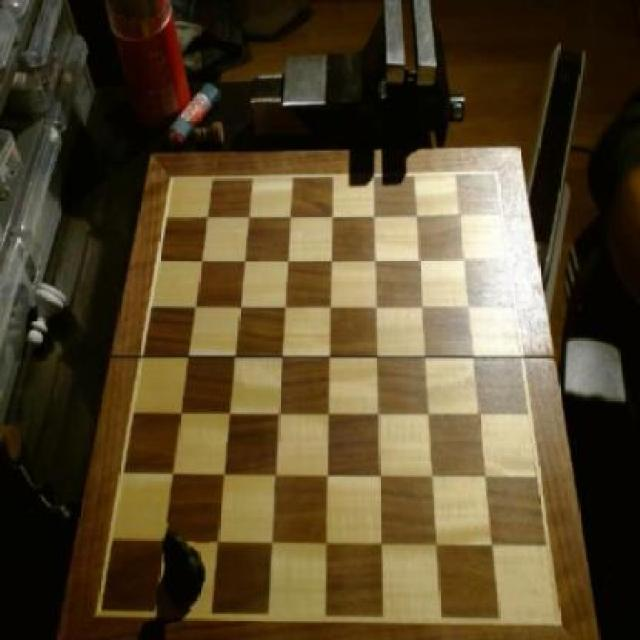bishop: (160, 524, 211, 610)
